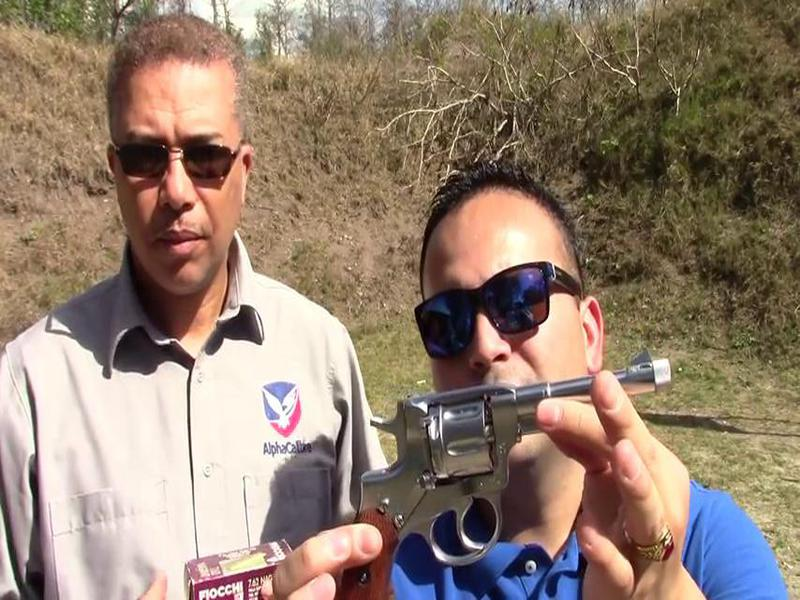Revolver: (309, 334, 683, 586)
